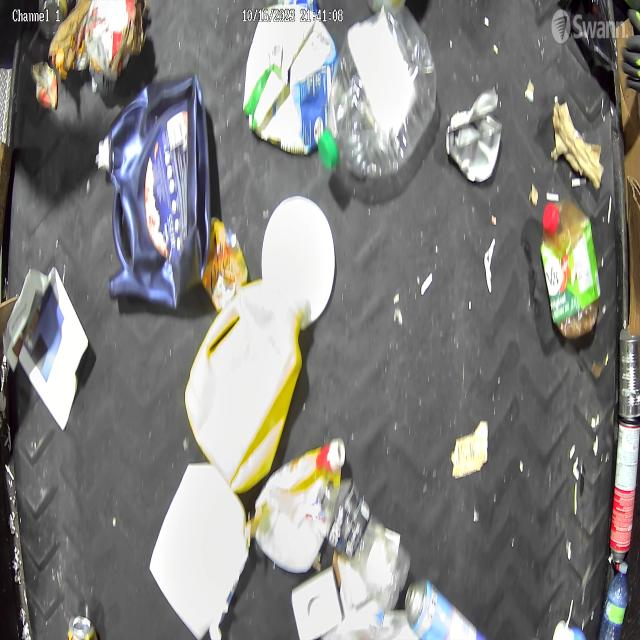can: (445, 84, 503, 183), (404, 576, 488, 640), (609, 416, 640, 569), (618, 327, 640, 416), (67, 614, 99, 640)
non_white_jug: (95, 71, 210, 312), (184, 278, 303, 495)
plastic_bottle: (318, 6, 438, 177), (318, 476, 411, 608), (598, 561, 628, 640)
